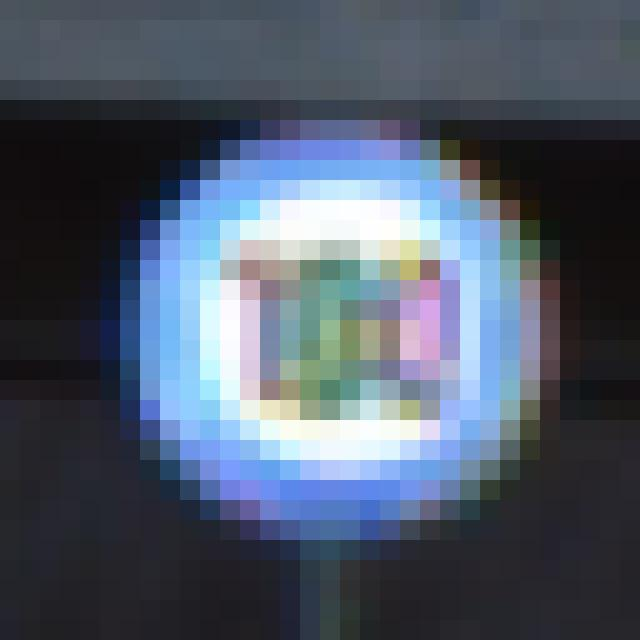SPEED LIMIT 100: (136, 121, 540, 534)
